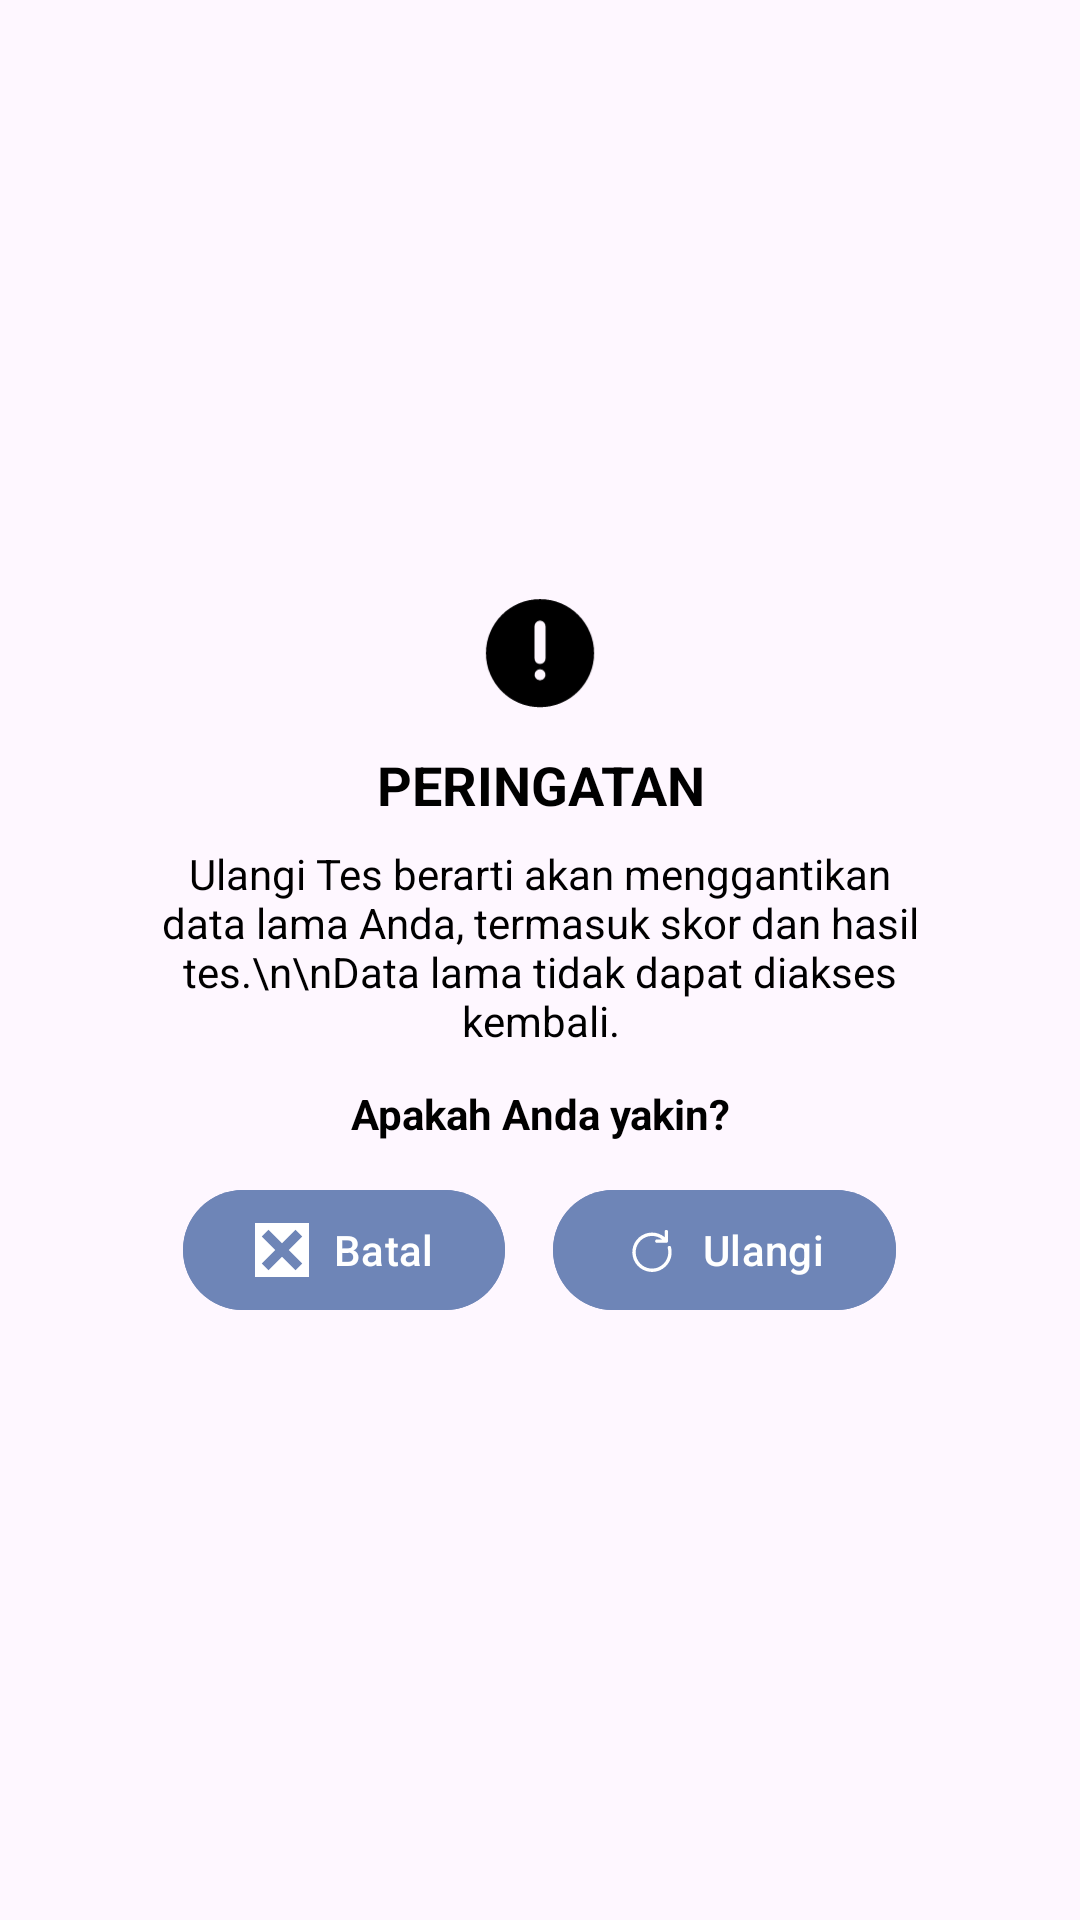

Named icons in this screenshot (1080px×1920px) and their bounding boxes, bbox=[x1, y1, x2, y2]:
warning: bbox=[485, 599, 595, 708]
